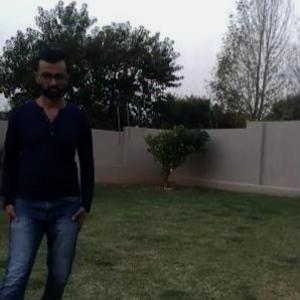follow: (0, 14, 103, 299)
